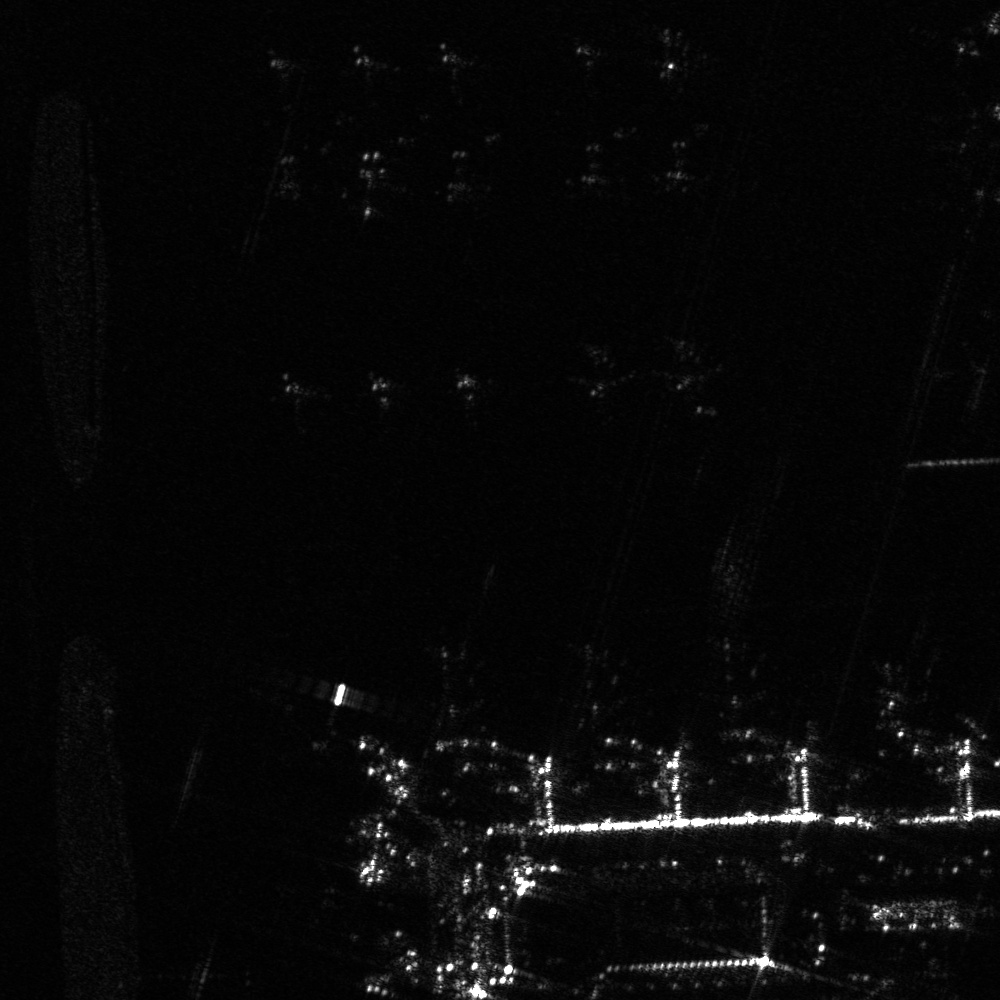A220: (543, 639, 654, 725), (650, 336, 730, 396), (555, 140, 629, 202), (342, 369, 422, 424)
A320/321: (433, 366, 501, 424)
ARJ21: (253, 370, 335, 438), (636, 137, 725, 199), (422, 143, 504, 207), (252, 152, 321, 209)
Boeing737: (330, 142, 411, 227)
Boeing787: (684, 639, 771, 739), (849, 653, 949, 717)
other: (409, 643, 492, 730), (631, 15, 721, 93), (911, 335, 997, 416), (555, 27, 638, 97), (561, 339, 640, 399), (416, 41, 483, 107), (244, 47, 312, 111), (336, 45, 404, 97)
